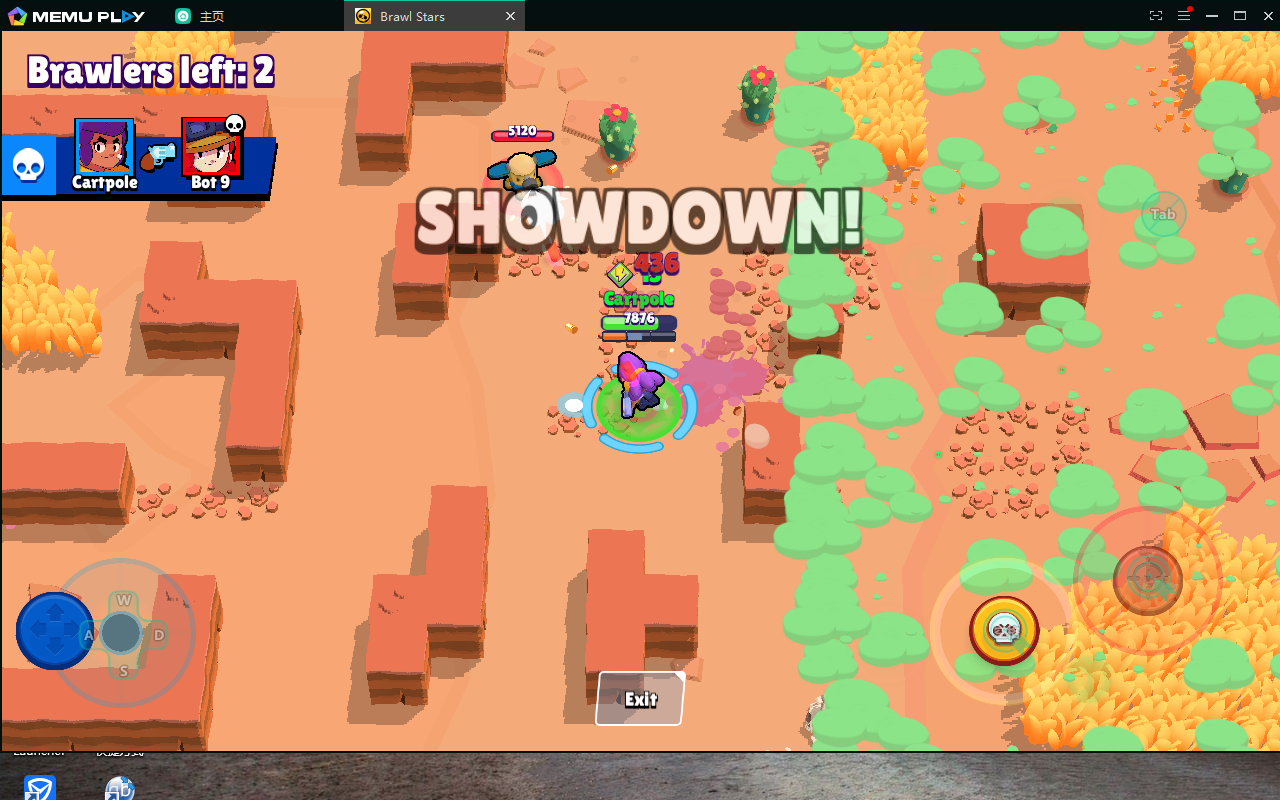current_player: (685, 337, 768, 402)
